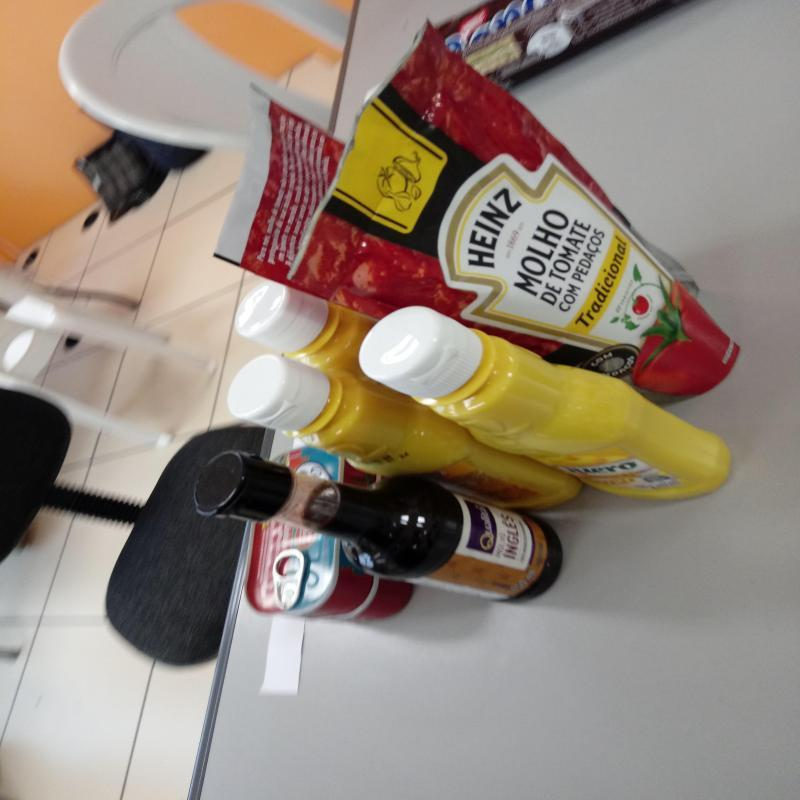Cookies: (462, 0, 690, 94), (431, 0, 560, 56)
EnglishSauce: (198, 451, 564, 602)
Mustard: (358, 308, 733, 504), (226, 355, 584, 511), (235, 274, 362, 376)
TomatoSauce: (286, 20, 744, 397), (212, 81, 348, 305)
TunaCan: (245, 448, 382, 618), (357, 580, 414, 622)
